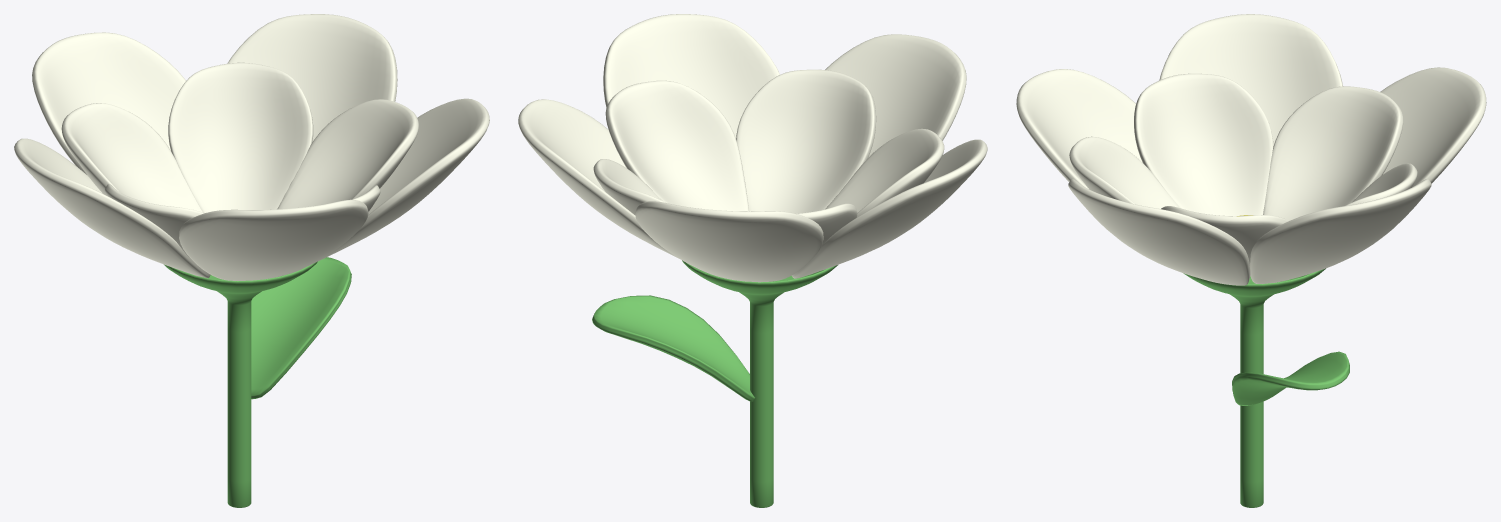
The model's file is 白罌粟花葉子.FBX.
The picture shows the model from 3 angles, left to right: view 1: azimuth 30°, elevation 25°; view 2: azimuth 150°, elevation 25°; view 3: azimuth 270°, elevation 25°; orthographic projection.
Parts seen in each view (by area): view 1: Plane151, Plane146, Plane150, Plane148, Plane152, Plane155, Plane156, Plane147, Plane149, Cylinder031, Plane154; view 2: Plane153, Plane152, Plane147, Plane150, Plane148, Plane146, Plane156, Plane149, Cylinder031, Plane154, Plane151, Plane155; view 3: Plane154, Plane155, Plane149, Plane146, Plane148, Plane147, Plane150, Cylinder031, Plane153, Plane156, Plane152, Plane151.
Boxes of the visible parts, left/top/right/bottom form: Plane151: left=168, top=62, right=313, bottom=212; Plane146: left=227, top=14, right=397, bottom=141; Plane150: left=32, top=32, right=186, bottom=174; Plane148: left=179, top=199, right=368, bottom=280; Plane152: left=277, top=99, right=418, bottom=209; Plane155: left=61, top=103, right=202, bottom=212; Plane156: left=251, top=257, right=351, bottom=399; Plane147: left=315, top=98, right=489, bottom=262; Plane149: left=14, top=138, right=210, bottom=278; Cylinder031: left=164, top=261, right=317, bottom=507; Plane154: left=105, top=184, right=204, bottom=260; Plane153: left=736, top=69, right=876, bottom=213; Plane152: left=605, top=80, right=749, bottom=211; Plane147: left=603, top=14, right=779, bottom=138; Plane150: left=635, top=201, right=823, bottom=282; Plane148: left=825, top=34, right=966, bottom=157; Plane146: left=518, top=99, right=678, bottom=258; Plane156: left=592, top=295, right=754, bottom=401; Plane149: left=791, top=139, right=987, bottom=278; Cylinder031: left=682, top=260, right=837, bottom=507; Plane154: left=825, top=128, right=944, bottom=217; Plane151: left=593, top=159, right=665, bottom=214; Plane155: left=796, top=203, right=857, bottom=248; Plane154: left=1134, top=73, right=1273, bottom=216; Plane155: left=1263, top=86, right=1403, bottom=220; Plane149: left=1159, top=14, right=1342, bottom=145; Plane146: left=1250, top=179, right=1431, bottom=283; Plane148: left=1016, top=69, right=1142, bottom=188; Plane147: left=1068, top=179, right=1250, bottom=285; Plane150: left=1380, top=67, right=1486, bottom=187; Cylinder031: left=1183, top=268, right=1325, bottom=507; Plane153: left=1069, top=136, right=1179, bottom=208; Plane156: left=1232, top=351, right=1349, bottom=405; Plane152: left=1161, top=206, right=1288, bottom=265; Plane151: left=1345, top=163, right=1417, bottom=205.
Size of the model in its own units: 14.01 by 13.01 by 14.25.
Materials: 3 (3 with a texture image).
